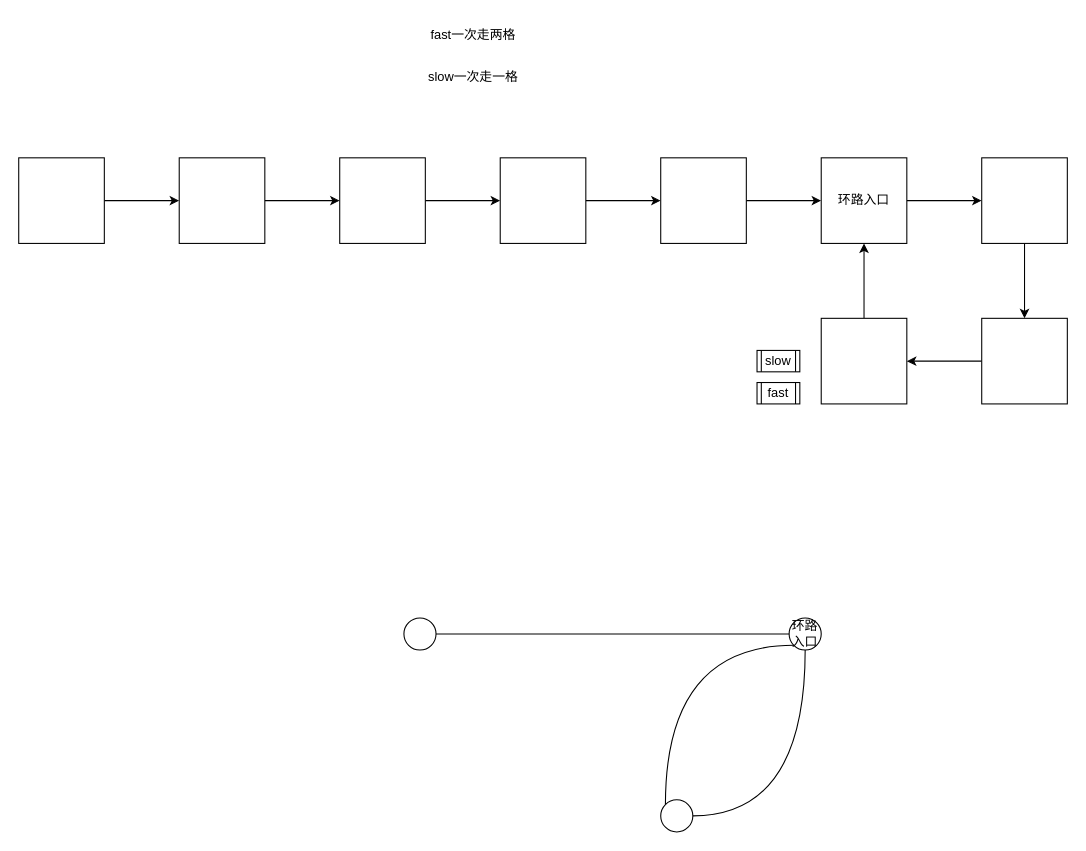
Some shapes in this 1086 by 851 pixel diagram are drawn without their labels. The shapes that lost their labels are listed below. From the top down, each one's centre as x and y in pixels, then its label:
the point at 419,633: 起点
the point at 676,815: 相遇
